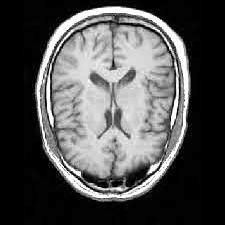Normal_Brain: (1, 1, 224, 225)
